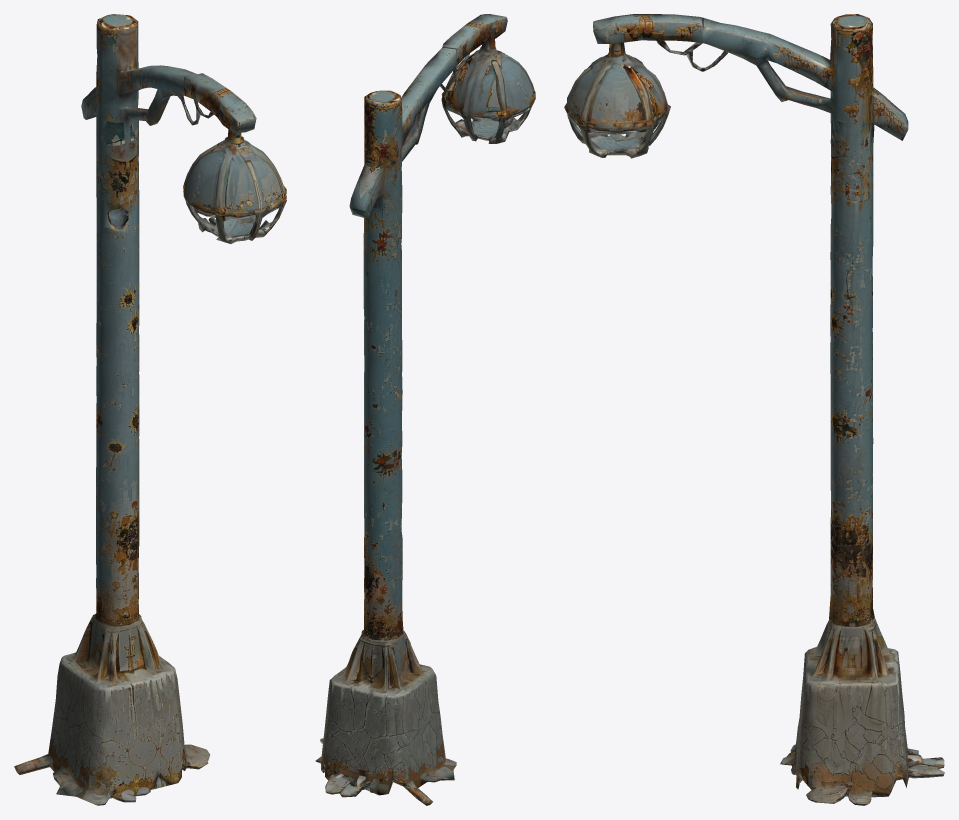
The model's file is Prop_StreetLamp.glb.
3 views of the same model, side by side, from view 1: azimuth 30°, elevation 25°; view 2: azimuth 150°, elevation 25°; view 3: azimuth 270°, elevation 25° (orthographic). The views are drawn at different scales.
Parts seen in each view (by area): view 1: texture_mapping; view 2: texture_mapping; view 3: texture_mapping.
Part boxes in pixels (x1,y1,x2,y2): texture_mapping: (14,14,286,805); texture_mapping: (315,14,535,805); texture_mapping: (564,14,944,805).
Size of the model in its own units: 0.2178 by 0.998 by 0.4547.
Materials: 1 (1 with a texture image).
